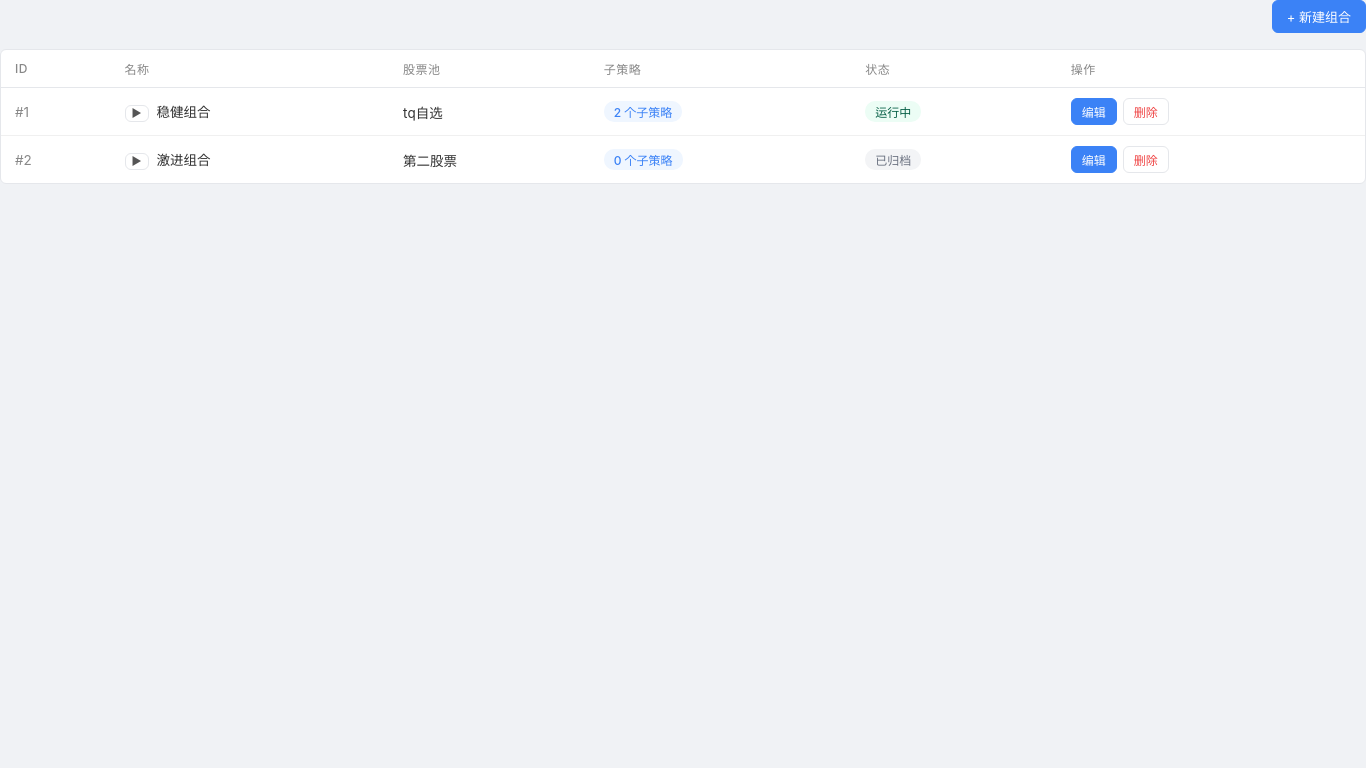
Test case: Portfolios.vue — 组合列表（树状） › 点[+新建组合]弹 Modal，含名称/股票池下拉，无子策略卡片
Click the button "+ 新建组合": [1319, 16] box [1272,0,1365,33]
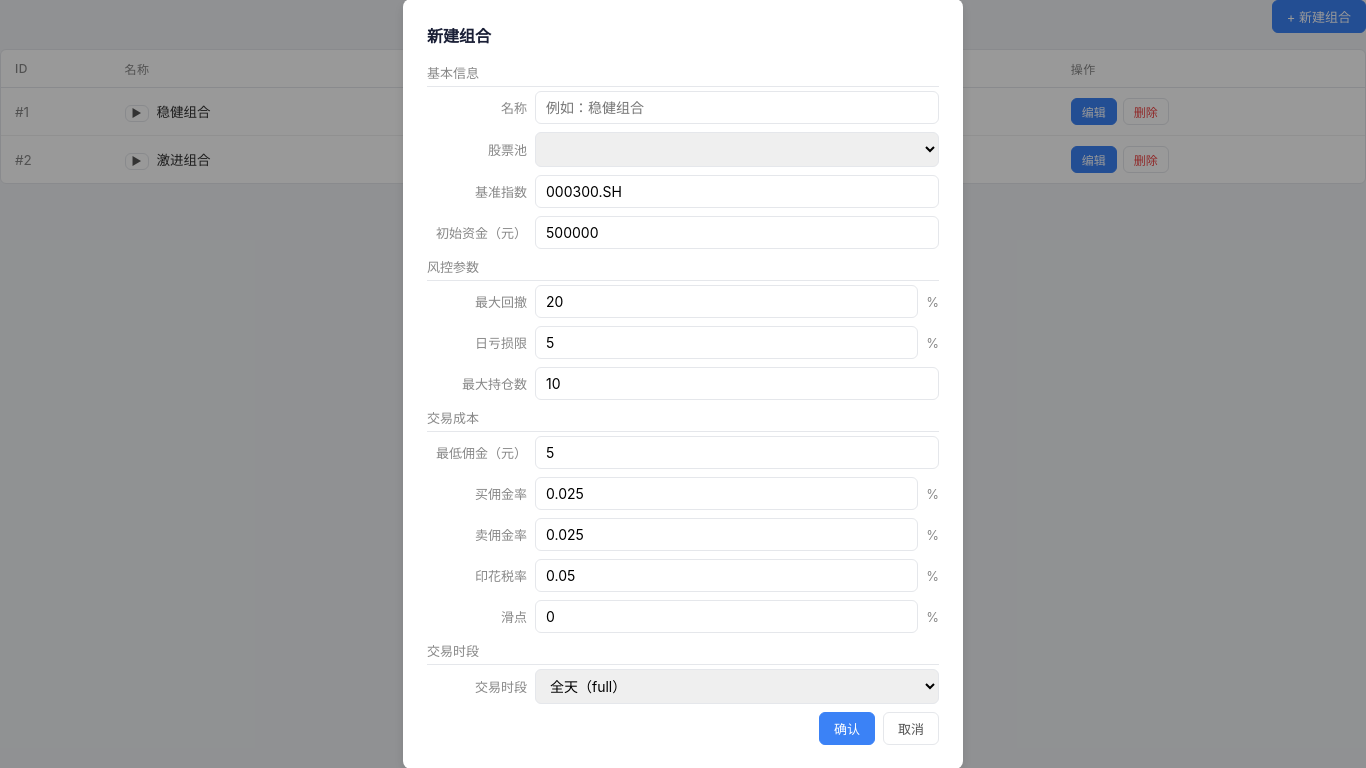
Check: the element with class "modal-overlay" is shown
Check: the dropdown below "基本信息" is shown, box [535,132,939,167]
